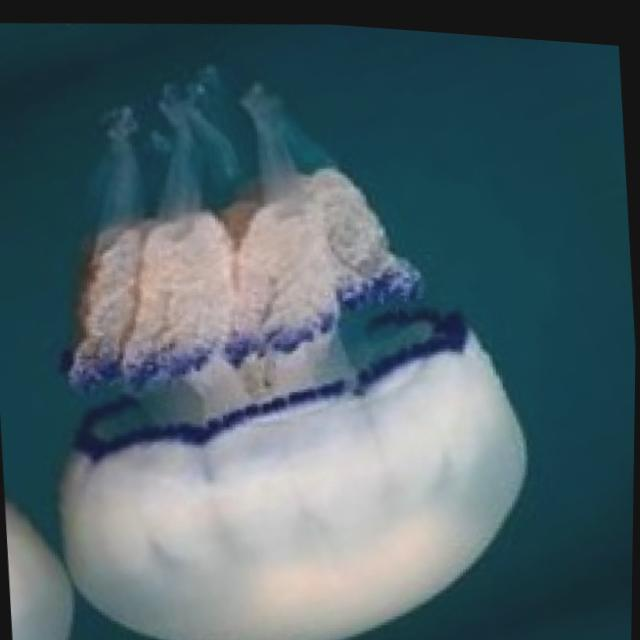Jellyfish: (18, 24, 555, 640)
